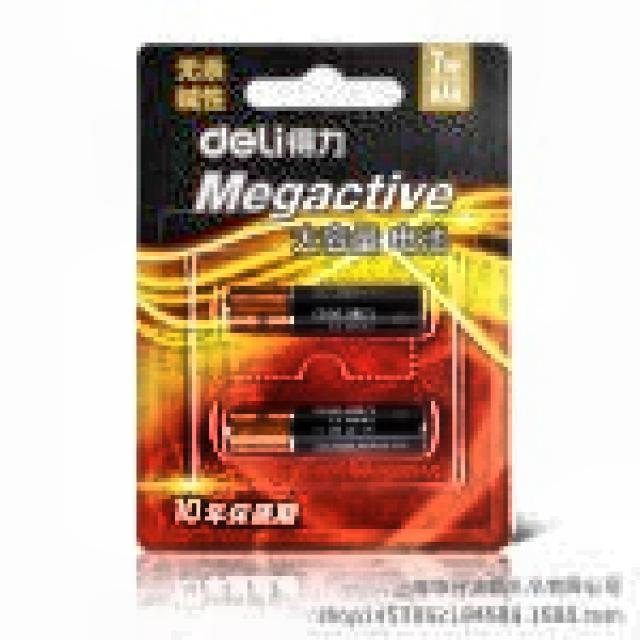Non-Valuable Waste - Batteries: (137, 45, 510, 547)
